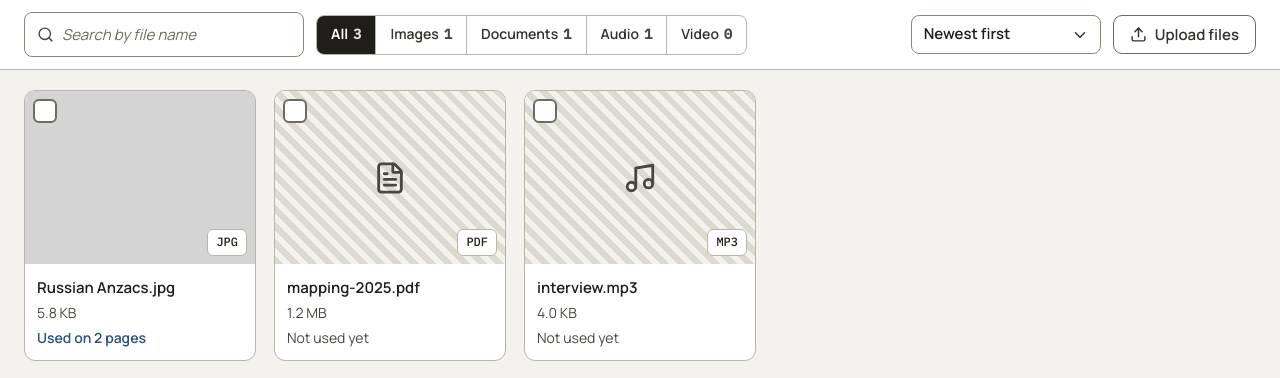
MediaBrowser in manage mode › offers a type filter with counts
Check: the link "Russian Anzacs.jpg" is shown, box [37,277,175,298]
Check: the button "All 3" is shown, box [317,16,376,54]
What coordinates should you click on to do the following:
click the button "Documents 1"
I would click on:
 (526, 35)
Its box is [466,16,586,54].
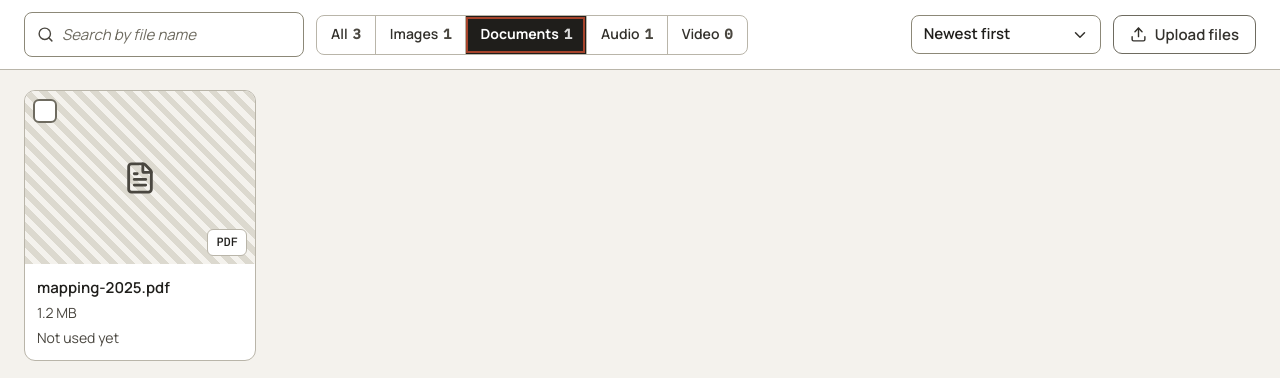
Check: the link "mapping-2025.pdf" is shown, box [37,277,170,298]
Check: the link "Russian Anzacs.jpg" is gone
